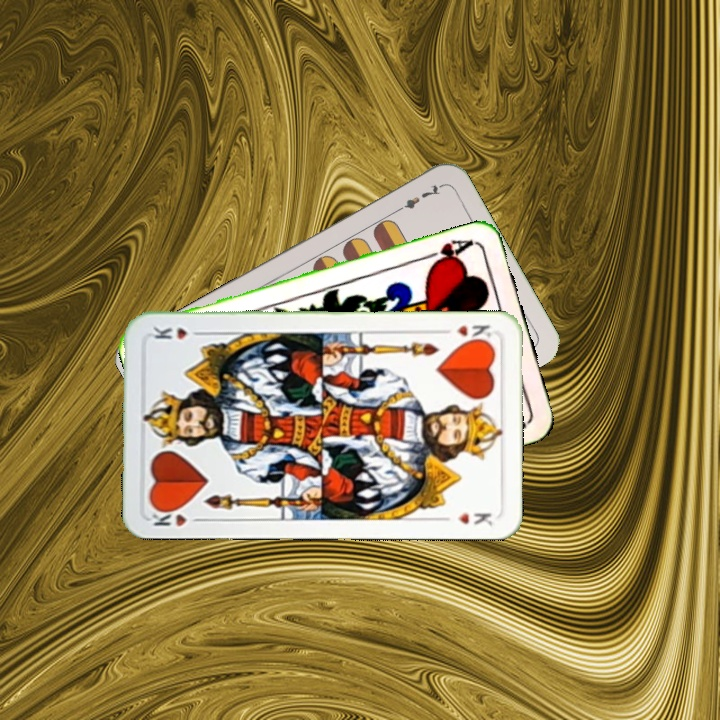E7: (390, 180, 445, 216)
HA: (419, 235, 477, 270)
HK: (148, 503, 206, 529), (437, 321, 493, 345)
